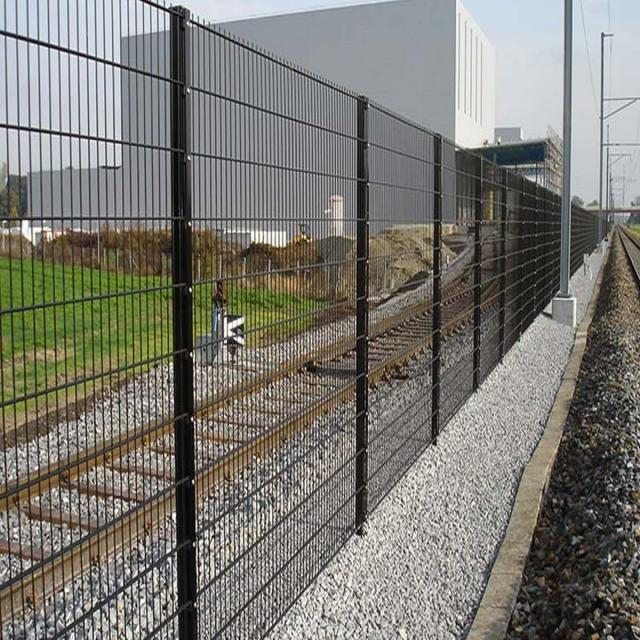fence line: (3, 1, 358, 640), (303, 116, 564, 474), (573, 202, 601, 276)
